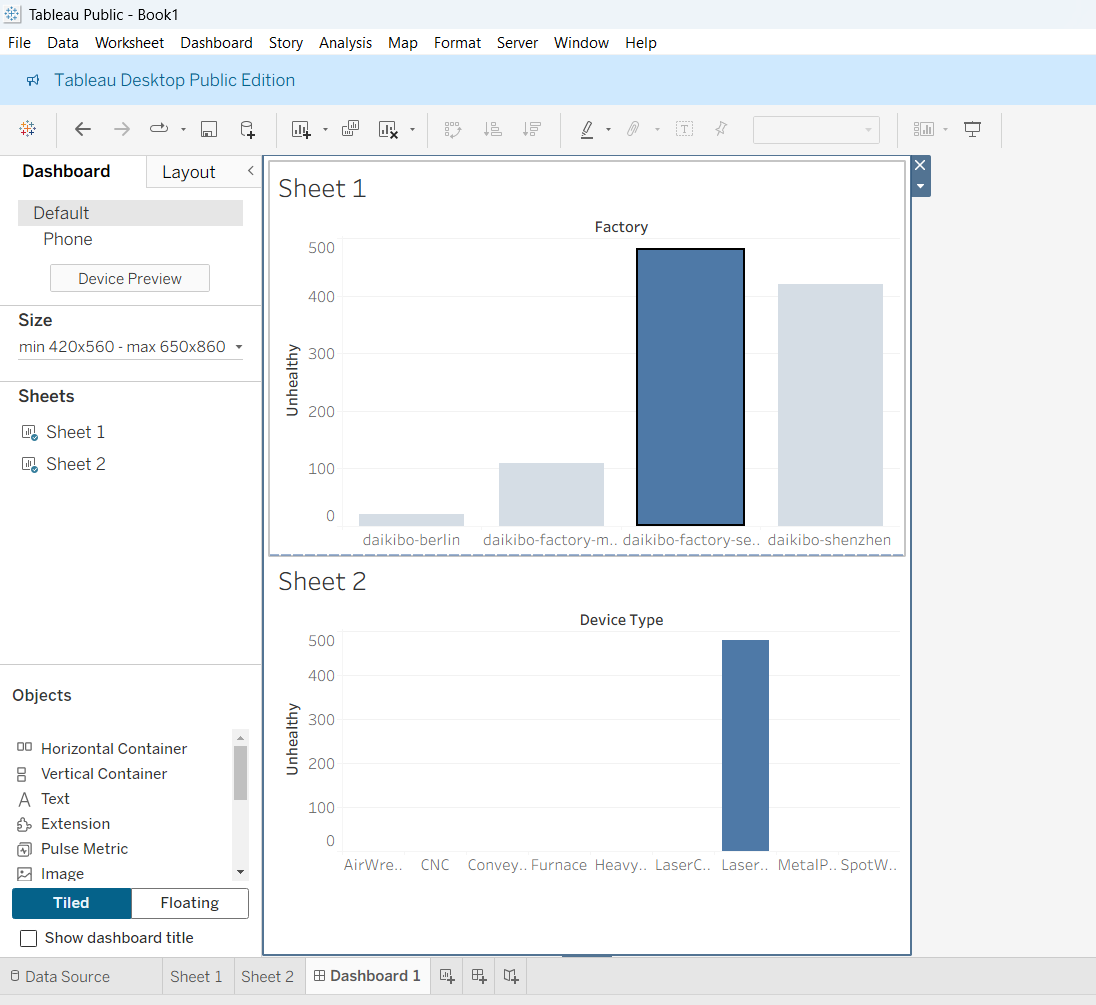

The dashboard page shown, as its layout file describes it:
{"tool":"tableau","page":{"name":"Dashboard 1","canvas":[650,860],"ordinal":0},"visuals":[{"type":"worksheet","title":"Sheet 1","mark":"Automatic","rows":["Calculation_1390204949197606912"],"cols":["factory"],"box":[8,8.6,634,421.4]},{"type":"worksheet","title":"Sheet 2","mark":"Automatic","rows":["Calculation_1390204949197606912"],"cols":["deviceType"],"box":[8,430,634,421.4]}]}

Visuals, with their boxes on the page's 650x860 design canvas (x1, y1, x2, y2). These are canvas units, not pixel positions in the 1096x1005 screenshot, which may show the page scaled, cropped or inside an application window:
"Sheet 1" worksheet: [x1=8, y1=9, x2=642, y2=430]
"Sheet 2" worksheet: [x1=8, y1=430, x2=642, y2=851]
